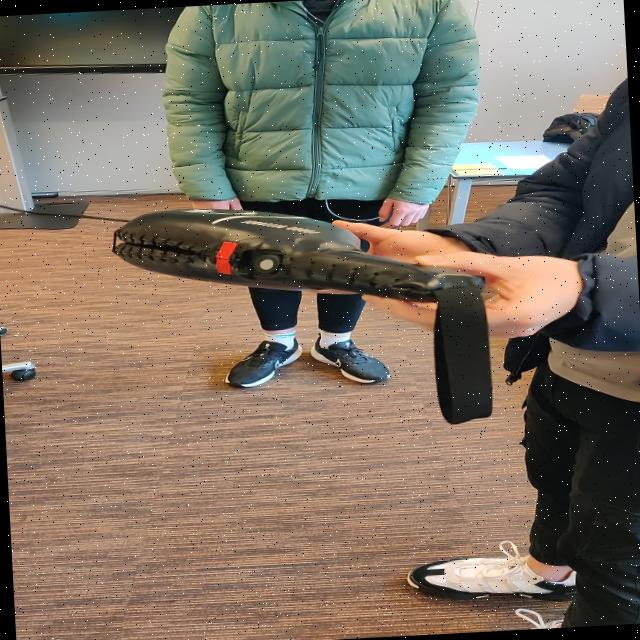paddle: (113, 207, 483, 302)
